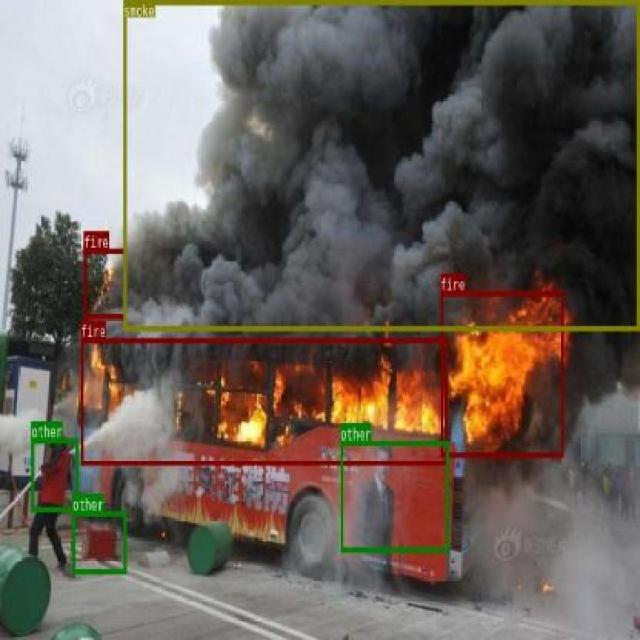Fire: (79, 338, 447, 464), (440, 291, 563, 457), (83, 247, 126, 318)
Smoke: (122, 0, 640, 329)
